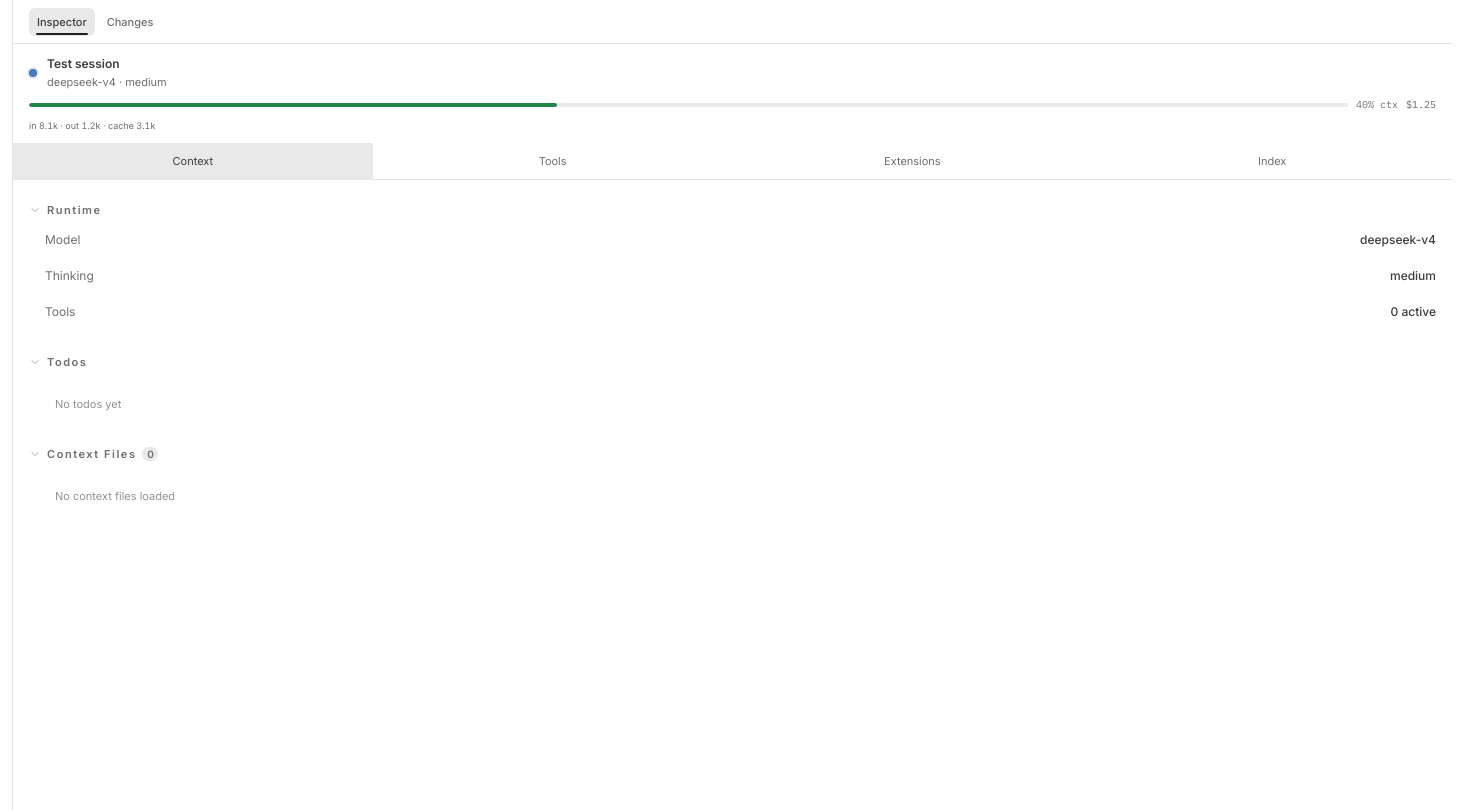
Test: ResourceInspector › Index tab › shows empty results state
Click the tab "Index".
click(1272, 161)  # box [1092, 143, 1452, 179]
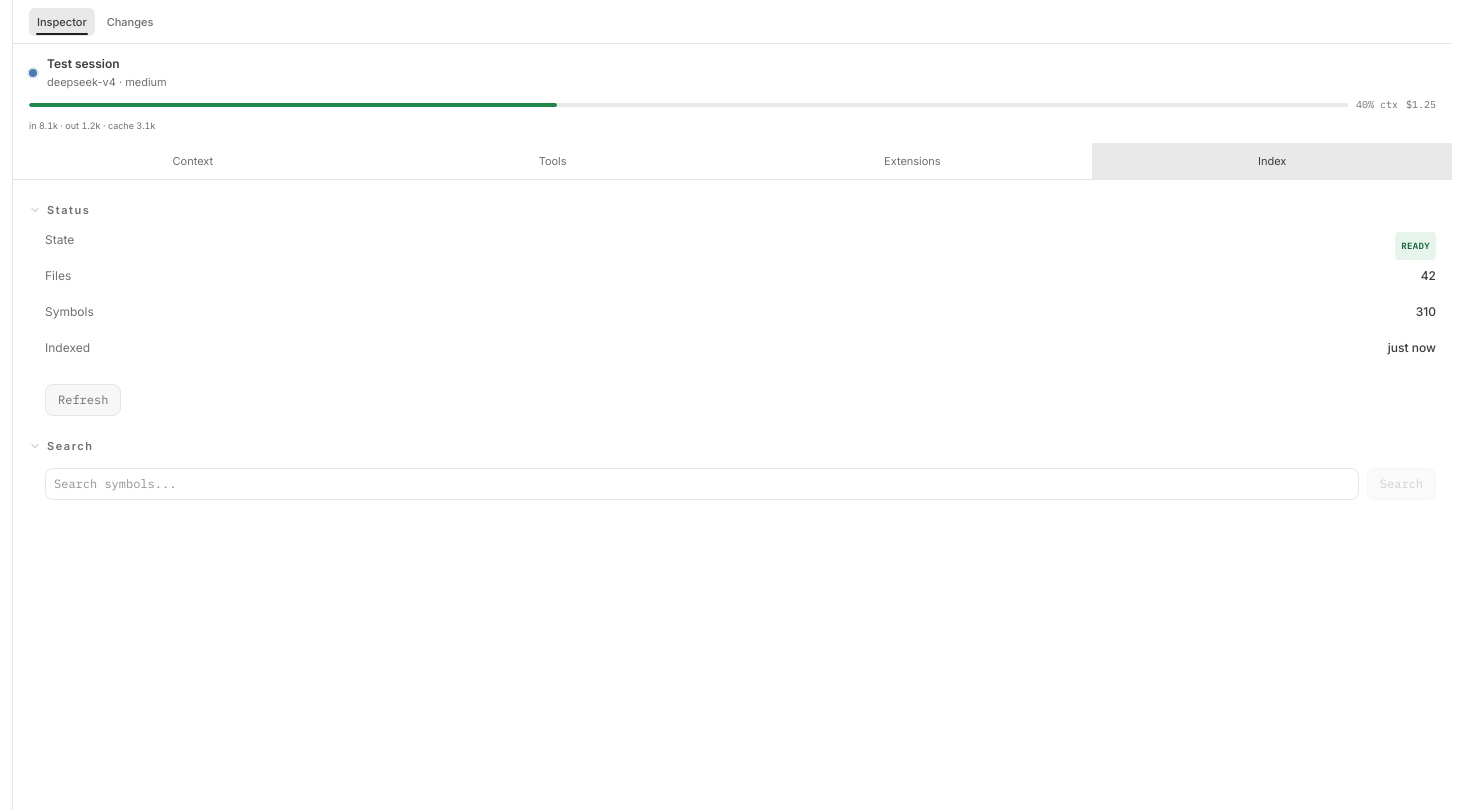
Type "nope" into the field with placeholder "Search symbols...".
click(702, 484); type("nope")  # box [45, 468, 1359, 500]
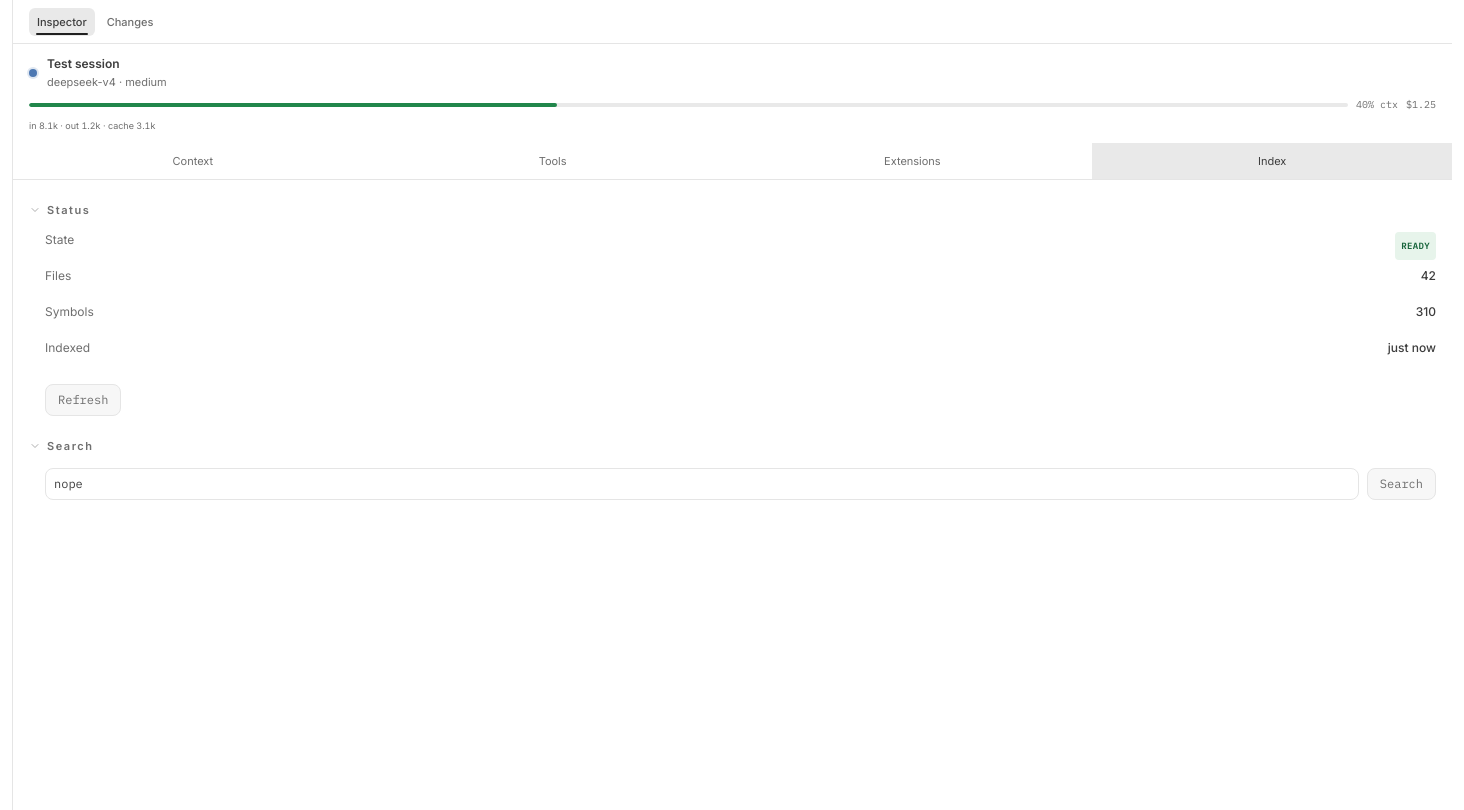
Click the button with class "index-search-btn".
click(1401, 484)  # box [1367, 468, 1436, 500]
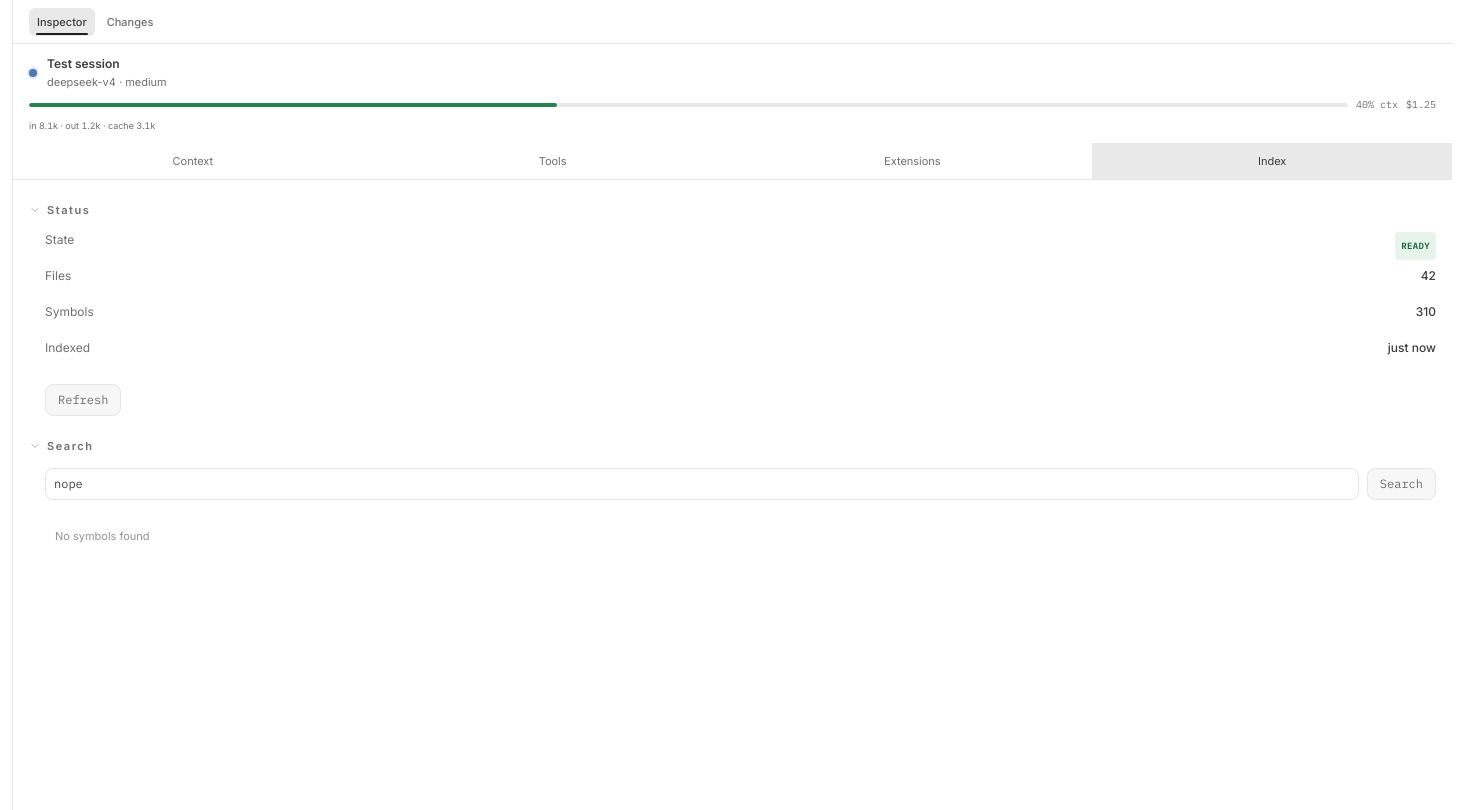
expect the text "No symbols found" is shown: met, box [55, 529, 150, 543]
